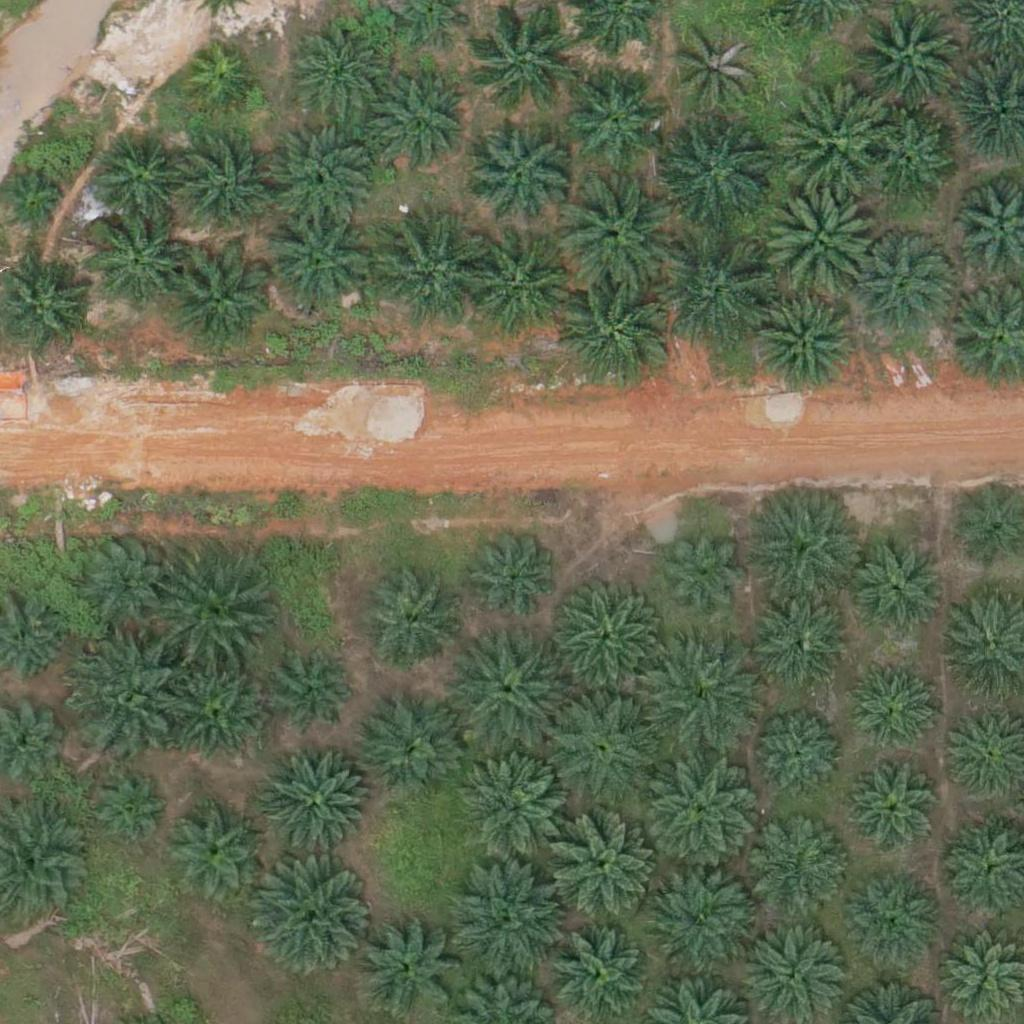Kelapa_Sawit: (647, 757, 760, 871), (251, 862, 364, 976), (647, 642, 760, 755), (545, 812, 658, 925), (545, 583, 658, 696), (459, 753, 572, 866), (559, 277, 672, 390), (264, 118, 377, 231), (261, 206, 374, 319), (163, 245, 276, 358), (647, 861, 759, 975), (544, 689, 656, 803), (747, 484, 859, 598), (369, 215, 481, 329), (457, 632, 569, 745), (454, 868, 566, 981), (262, 748, 374, 861), (159, 561, 271, 674), (69, 640, 181, 753), (830, 868, 942, 981), (737, 815, 849, 928), (775, 83, 887, 196), (762, 181, 874, 294), (664, 236, 776, 349), (660, 115, 772, 228), (558, 177, 670, 290), (459, 234, 571, 347), (463, 526, 563, 627), (357, 914, 457, 1015), (358, 699, 458, 800), (165, 659, 265, 760), (71, 526, 171, 627), (845, 757, 945, 858), (749, 596, 849, 697), (854, 230, 954, 331), (466, 123, 566, 224), (366, 74, 466, 175), (174, 140, 274, 241), (89, 131, 189, 232), (362, 576, 462, 676), (166, 801, 266, 901), (841, 655, 941, 755), (848, 531, 948, 631), (753, 293, 853, 393), (564, 65, 664, 165), (289, 22, 389, 122), (84, 211, 184, 311), (864, 114, 952, 202), (664, 529, 751, 617), (271, 650, 358, 738), (84, 767, 171, 855), (759, 714, 846, 802), (674, 27, 761, 115), (182, 45, 257, 120)
